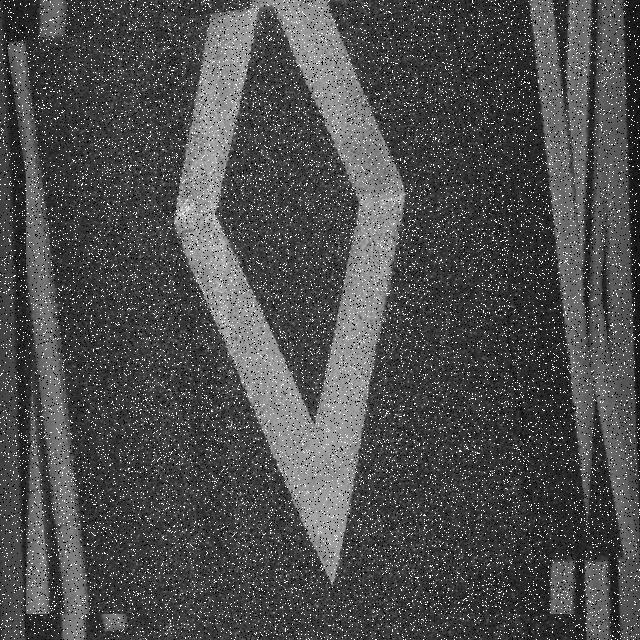diamond: (26, 0, 619, 614)
